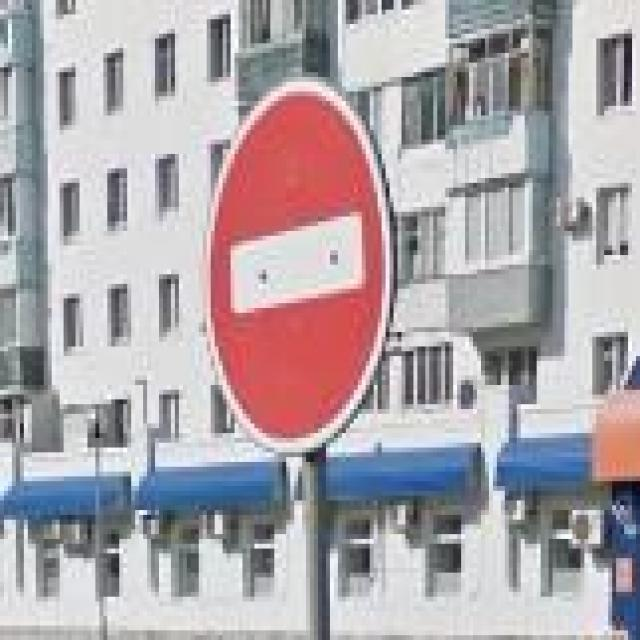traffic_sign: (202, 72, 398, 457)
